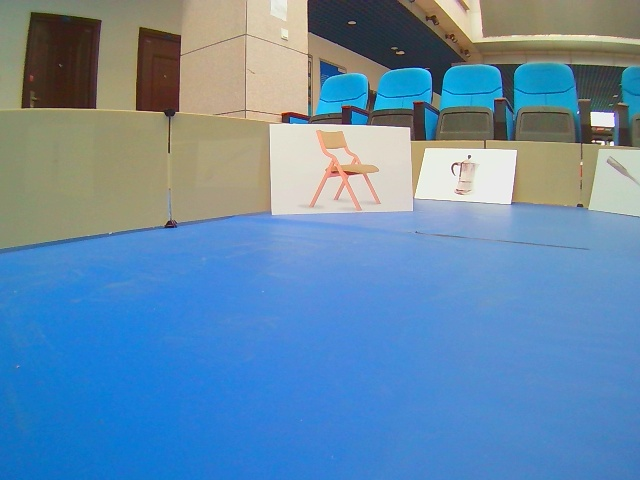dish: (415, 148, 517, 204)
table: (268, 123, 415, 216)
